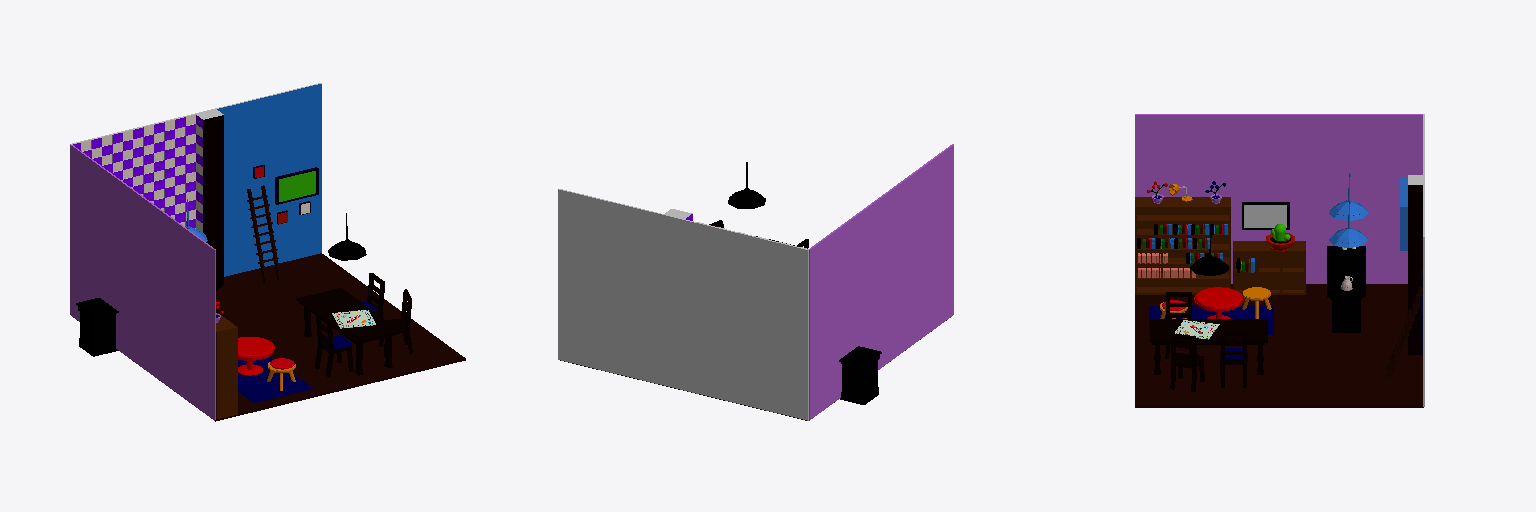
3 views of the same model, side by side, from view 1: azimuth 30°, elevation 25°; view 2: azimuth 150°, elevation 25°; view 3: azimuth 270°, elevation 25° (orthographic).
Parts seen in each view (by area): view 1: Cube.002, Cube.001, Cube, Langtisch, Regal, Cube.003, Filmposter, GrosserRahmen, Leiter, Rundtisch, Stuhl.002, Stuhl.001 (+2 smaller); view 2: Cube.002, Cube.001, Cube.003, Deckenlicht.002; view 3: Cube.001, Cube, Regal, KleinesRegal, Cube.003, Cube.002, Langtisch, GrosserRahmen.001, Stuhl.001, Rundtisch, Filmposter, Stuhl (+8 smaller).
Boxes of the visible parts, <box> form: Cube.002: <box>71,83,321,284</box>; Cube.001: <box>70,144,215,420</box>; Cube: <box>77,253,465,421</box>; Langtisch: <box>296,288,399,375</box>; Regal: <box>216,313,237,418</box>; Cube.003: <box>76,279,222,356</box>; Filmposter: <box>238,357,312,402</box>; GrosserRahmen: <box>275,167,318,204</box>; Leiter: <box>247,185,281,283</box>; Rundtisch: <box>238,337,274,375</box>; Stuhl.002: <box>315,312,353,376</box>; Stuhl.001: <box>379,289,412,356</box>; Cube.002: <box>558,189,808,420</box>; Cube.001: <box>809,144,953,420</box>; Cube.003: <box>839,346,881,404</box>; Deckenlicht.002: <box>728,162,765,208</box>; Cube.001: <box>1135,114,1422,283</box>; Cube: <box>1135,284,1423,407</box>; Regal: <box>1135,197,1230,294</box>; KleinesRegal: <box>1233,241,1305,294</box>; Cube.003: <box>1327,246,1365,332</box>; Cube.002: <box>1408,114,1424,406</box>; Langtisch: <box>1150,319,1267,374</box>; GrosserRahmen.001: <box>1242,202,1289,229</box>; Stuhl.001: <box>1170,333,1204,392</box>; Rundtisch: <box>1194,287,1242,318</box>; Filmposter: <box>1149,306,1273,334</box>; Stuhl: <box>1220,332,1247,387</box>.
Size of the model in its own units: 6.59 by 3.96 by 6.03.
52 materials, 1 textured.